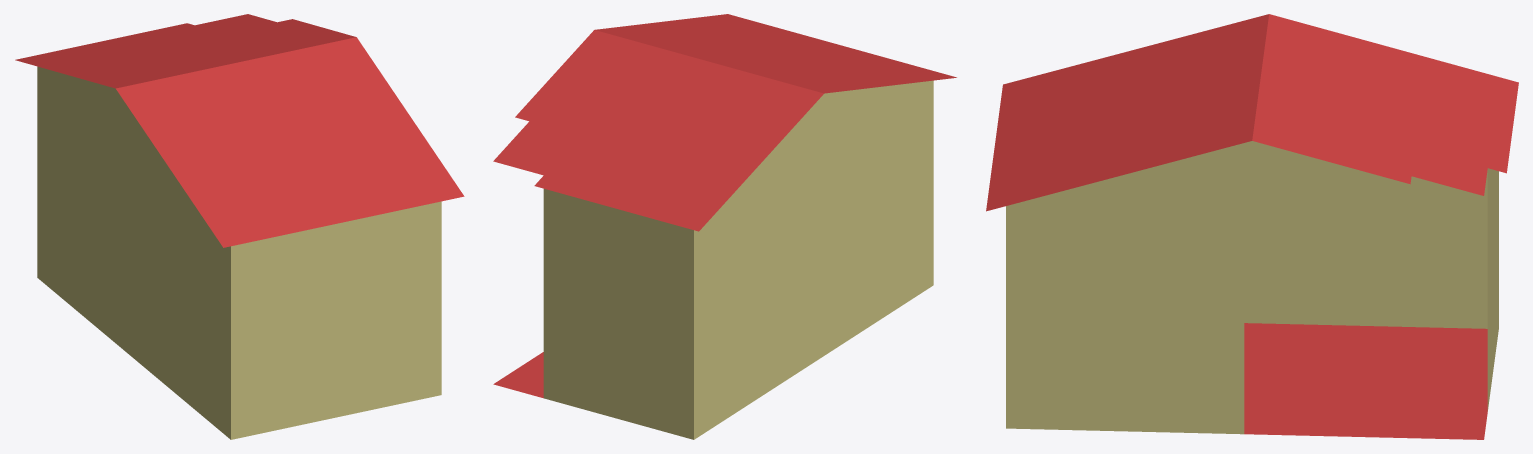
The picture shows the model from 3 angles, left to right: view 1: azimuth 30°, elevation 25°; view 2: azimuth 150°, elevation 25°; view 3: azimuth 270°, elevation 25°; orthographic projection. The views are drawn at different scales.
Size of the model in its own units: 8.51 by 13.99 by 8.74.
